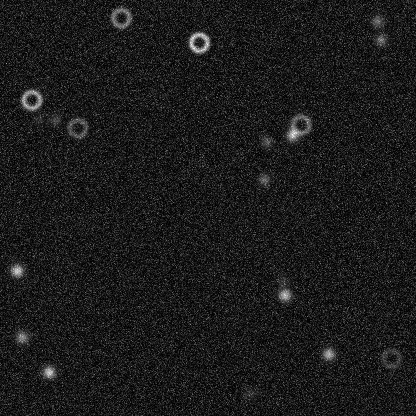Ring: (19, 87, 43, 111), (108, 5, 132, 29), (186, 30, 210, 54), (65, 115, 89, 139), (288, 112, 312, 136), (379, 346, 403, 370)
Spot: (13, 329, 29, 345), (320, 345, 336, 361), (40, 363, 56, 379), (276, 286, 292, 302), (256, 171, 272, 187), (47, 111, 63, 127), (369, 13, 385, 29), (241, 385, 257, 401), (274, 272, 290, 288), (258, 133, 274, 149), (8, 262, 24, 278), (31, 111, 47, 127), (372, 31, 388, 47), (284, 126, 300, 142)
